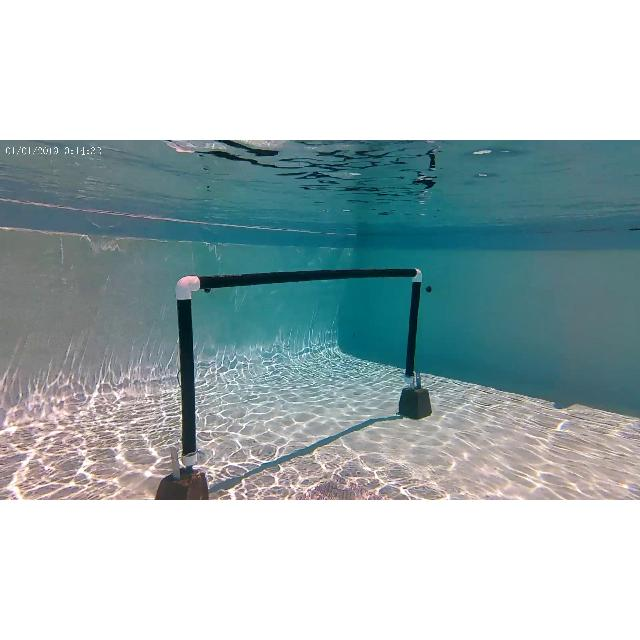prequal gate: (176, 268, 424, 466)
prequal gate leg l: (172, 267, 205, 481)
prequal gate leg r: (397, 266, 425, 392)
